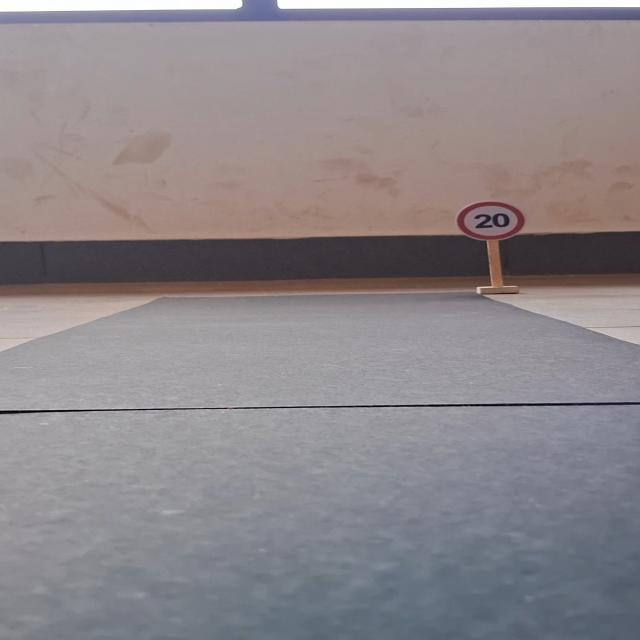Speed20: (453, 198, 532, 243)
